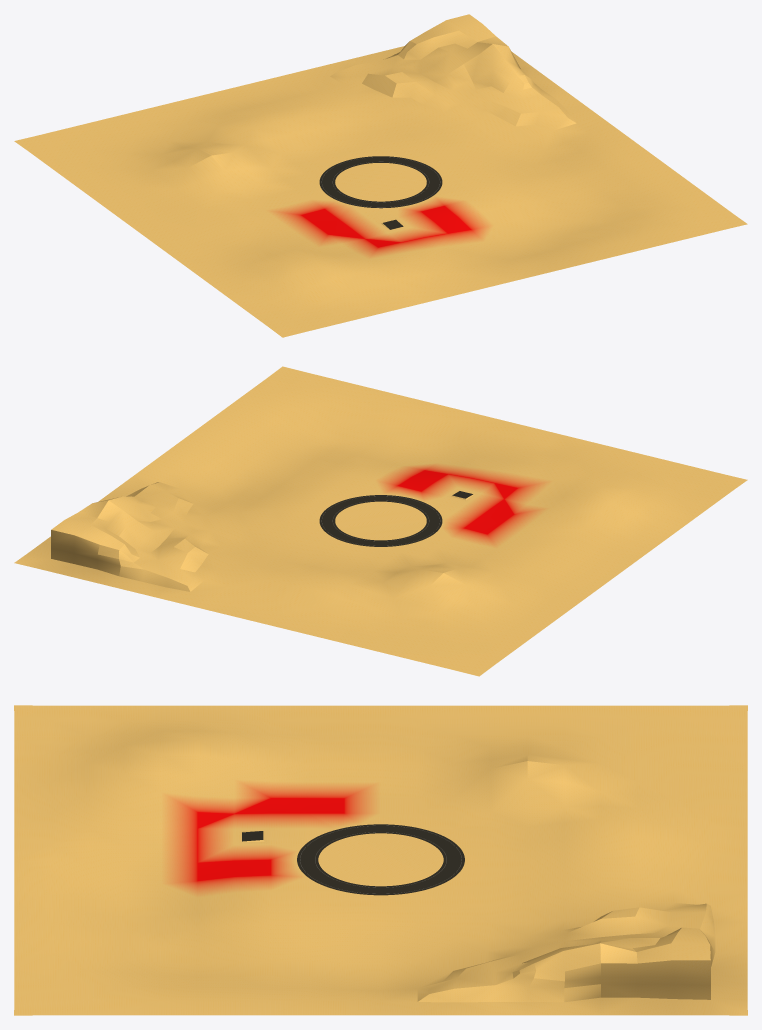
File: Ground.glb
The picture shows the model from 3 angles, top to bottom: view 1: azimuth 30°, elevation 25°; view 2: azimuth 150°, elevation 25°; view 3: azimuth 270°, elevation 25°; orthographic projection. The views are drawn at different scales.
Visible parts, largest first — view 1: ground-col; view 2: ground-col; view 3: ground-col.
Boxes of the visible parts, x1,y1,x2,y2 form: ground-col: [14, 14, 747, 337]; ground-col: [14, 366, 747, 676]; ground-col: [14, 705, 747, 1015].
Bounding box in the file's own units: 501 × 41.87 × 501.
Materials: 3 (3 with a texture image).
